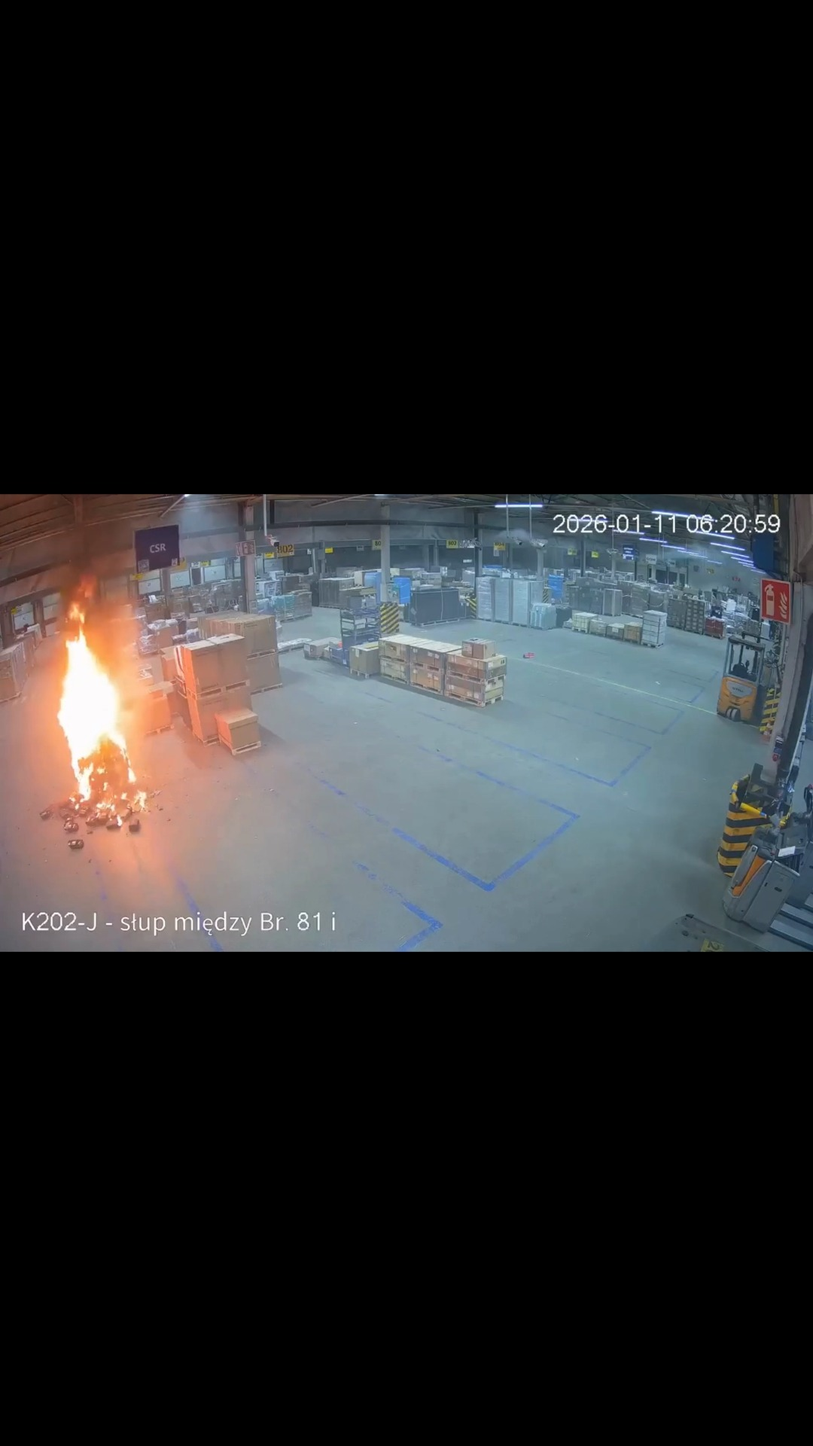fire: (41, 581, 176, 858)
